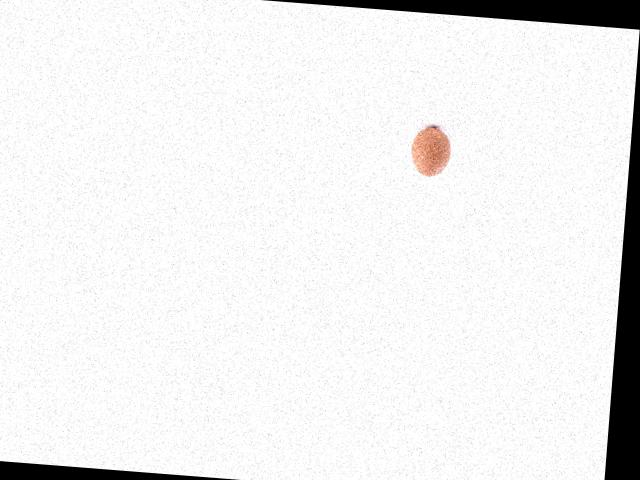egg: (410, 125, 453, 177)
